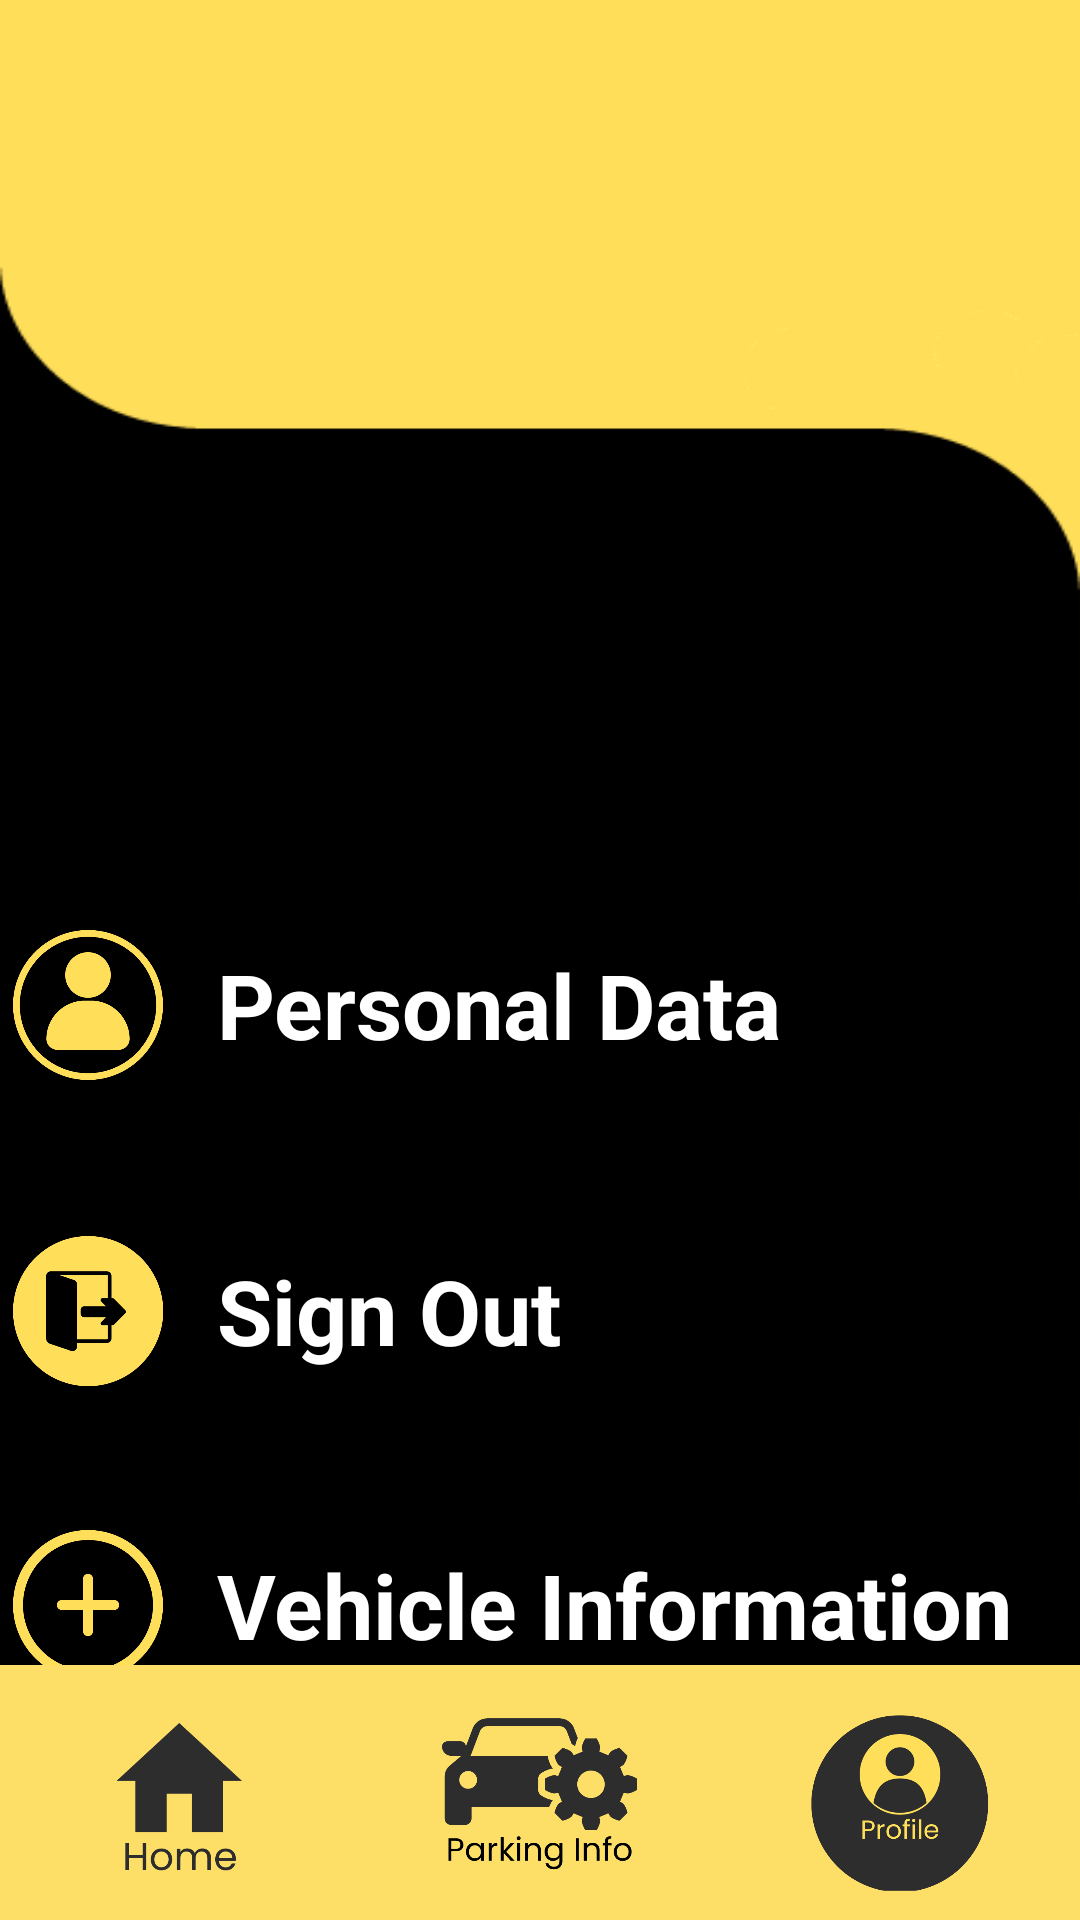

Locate icon controls on the screen. Image size 1080x1920, boxes as bbox=(x1, y1, x2, y2).
addvehicle: bbox=(13, 1530, 163, 1680)
